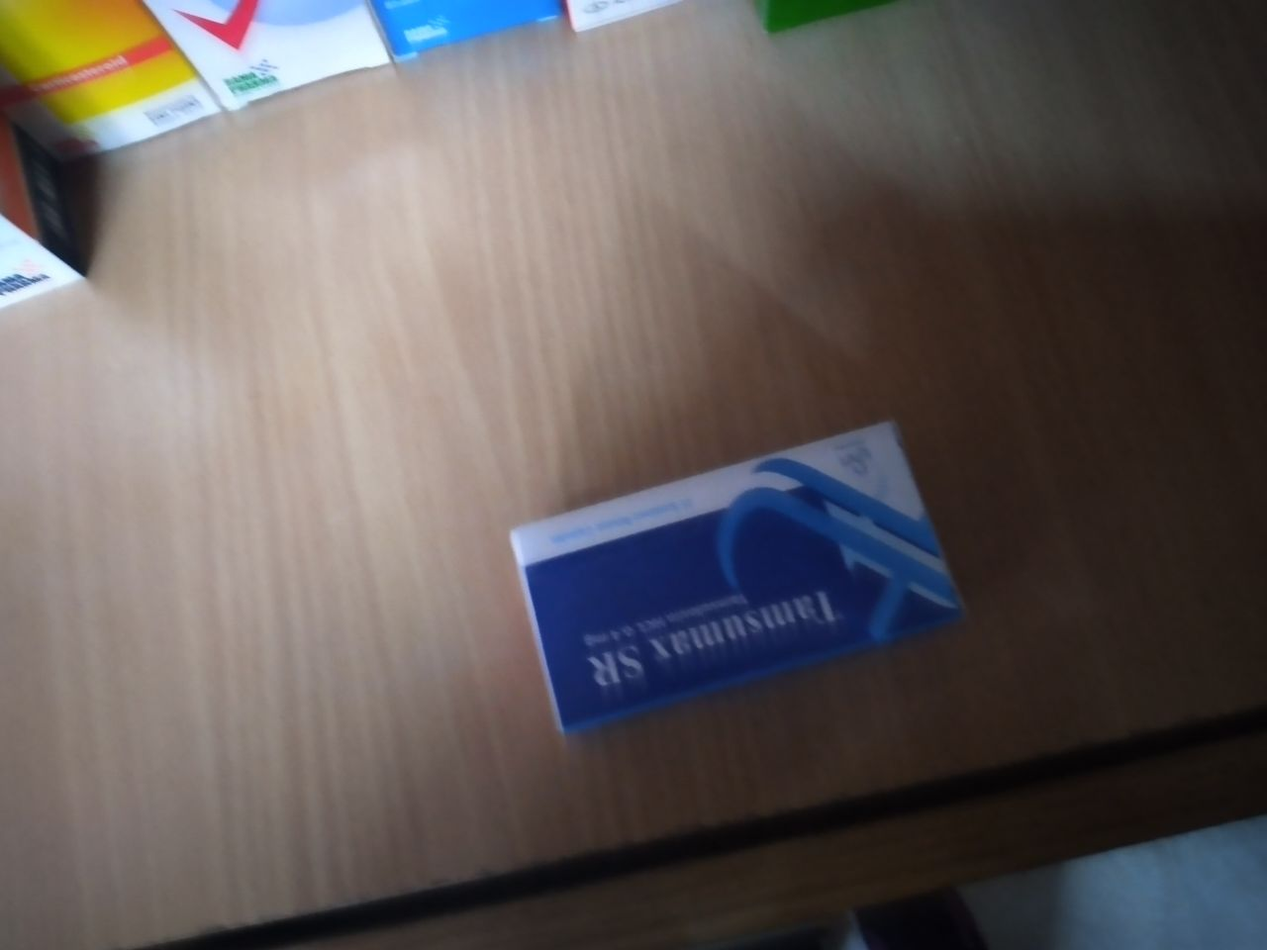Medicine: (505, 423, 970, 740)
